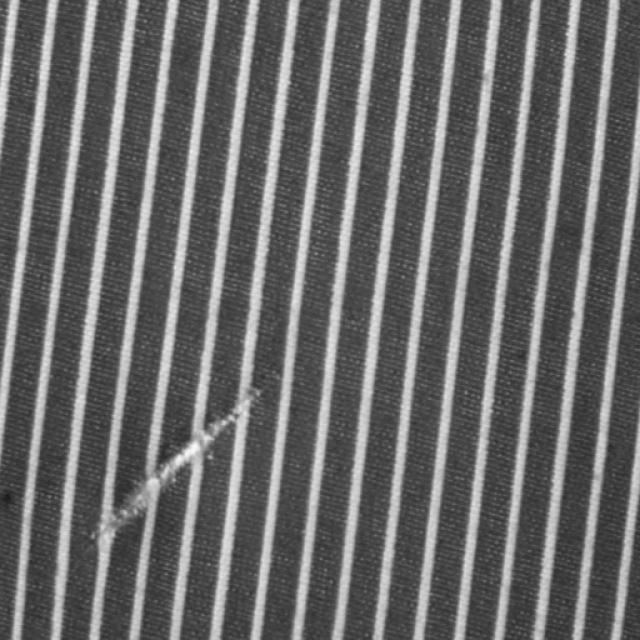Hole-Defect: (90, 388, 262, 555)
